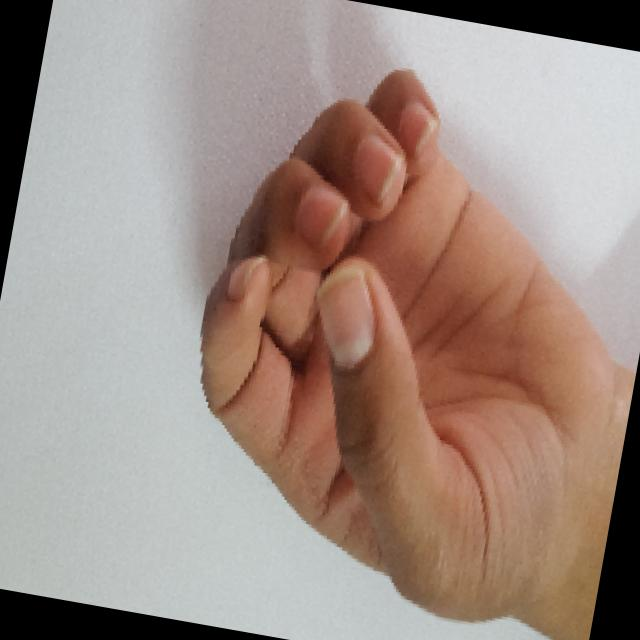Nail: (316, 266, 373, 367), (294, 183, 346, 249), (352, 135, 403, 201), (397, 102, 438, 155), (226, 255, 264, 301)
